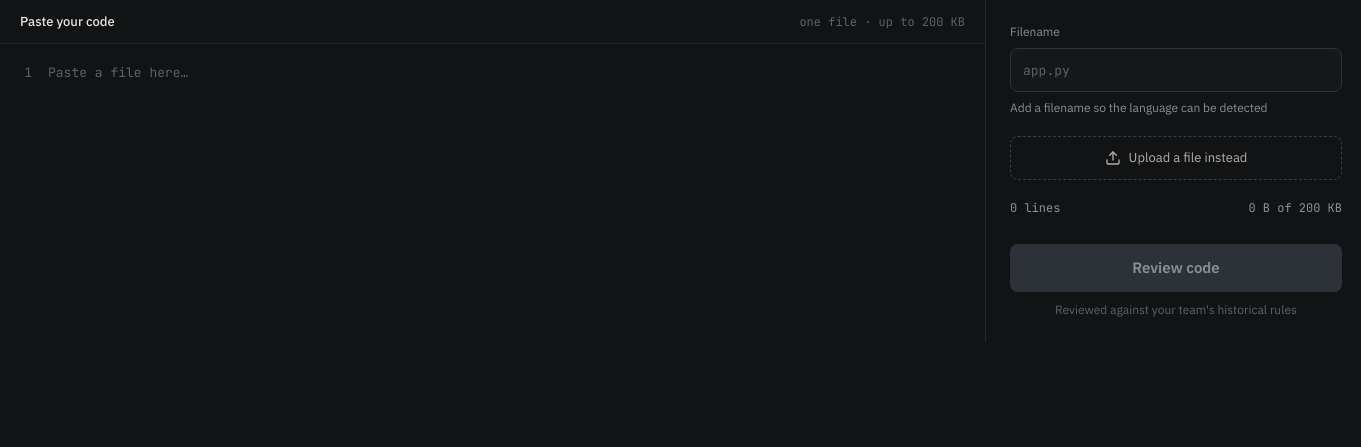
NewReviewPage › shows the API error and keeps the code when the review fails
The image size is (1361, 447).
Type "print(1)" into the text box named "Code to review" at [516, 193], box [48,44,985,342]
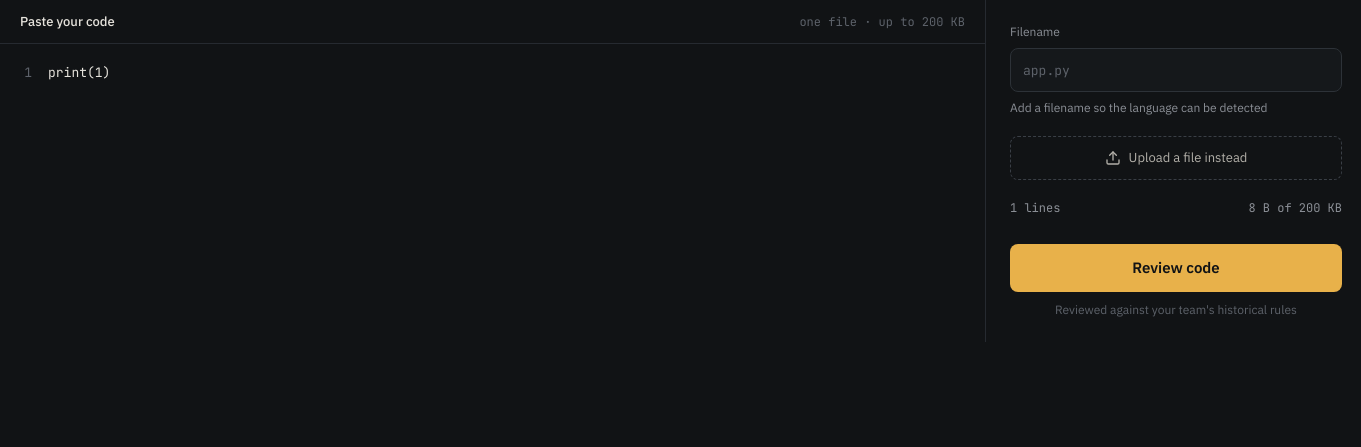
Click the button "Review code" at [1176, 268], box [1010,244,1342,292]
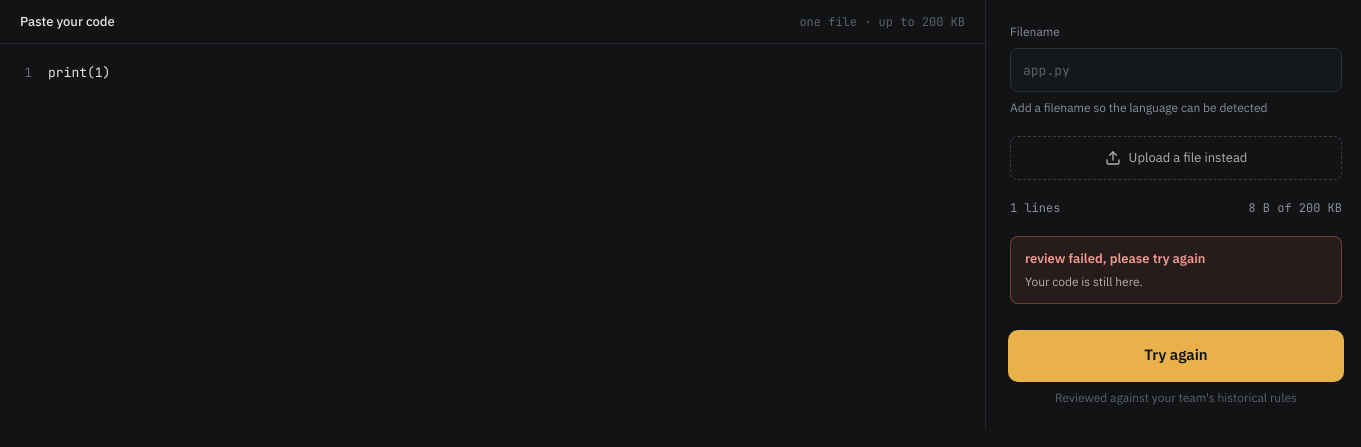
Expected: the button "Try again" is enabled, [1010,332,1342,380]
Expected: the text "review failed, please try again" is shown, [1025,250,1205,267]
